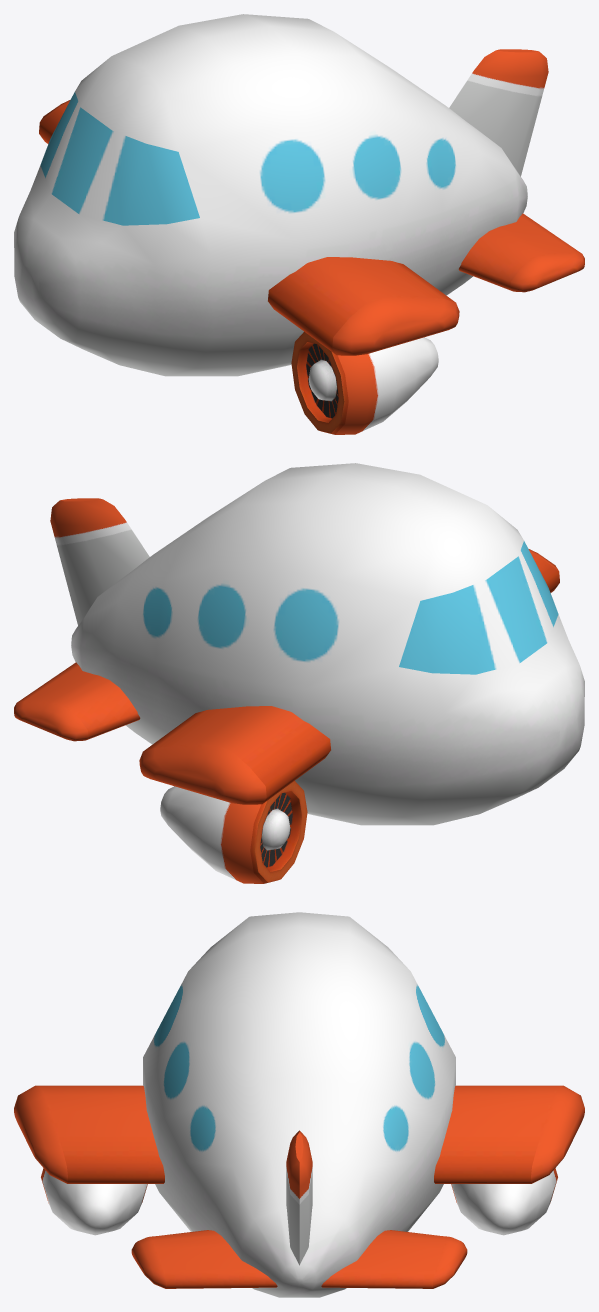
Rendered from airplane.fbx.
The picture shows the model from 3 angles, top to bottom: view 1: azimuth 30°, elevation 25°; view 2: azimuth 150°, elevation 25°; view 3: azimuth 270°, elevation 25°; orthographic projection. The views are drawn at different scales.
Parts seen in each view (by area): view 1: airplane; view 2: airplane; view 3: airplane.
Part boxes in pixels (x1,y1,x2,y2): airplane: (14,14,584,434); airplane: (14,463,584,883); airplane: (14,912,584,1297).
Size of the model in its own units: 0.642 by 0.3793 by 0.6695.
